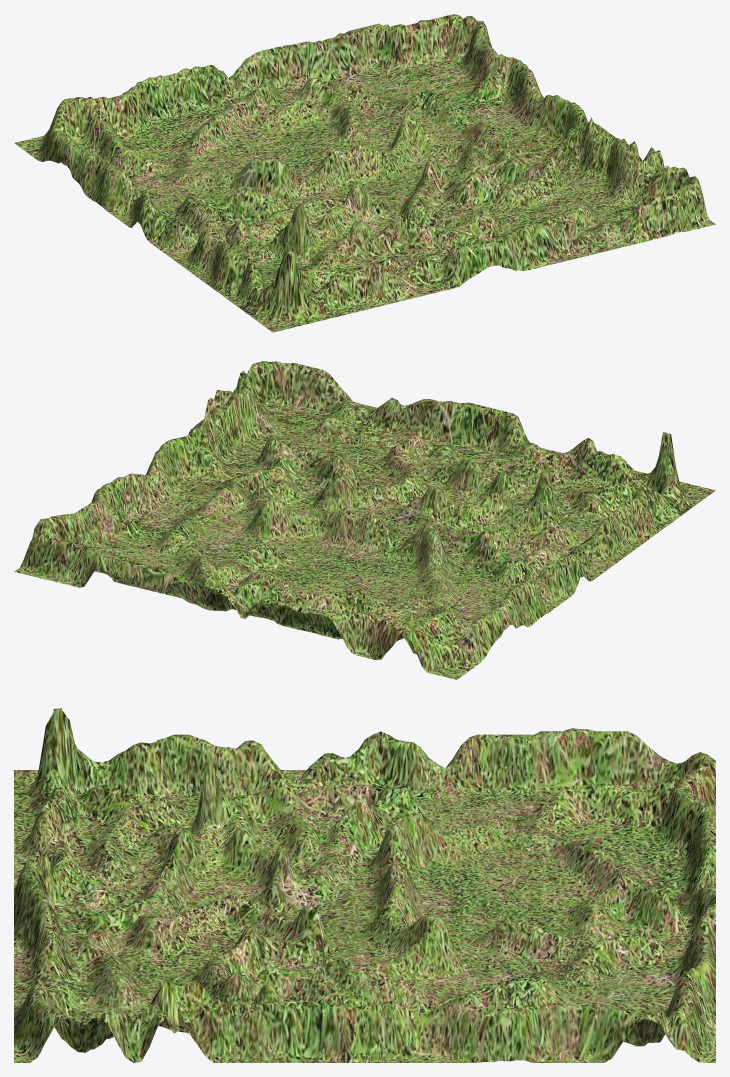
Rendered from terrain.DAE.
3 renders of one model, top to bottom at view 1: azimuth 30°, elevation 25°; view 2: azimuth 150°, elevation 25°; view 3: azimuth 270°, elevation 25°, orthographic. The views are drawn at different scales.
Visible parts, largest first — view 1: Plane001; view 2: Plane001; view 3: Plane001.
Part boxes in pixels (bbox=[...]): Plane001: bbox=[14, 14, 715, 332]; Plane001: bbox=[14, 361, 715, 679]; Plane001: bbox=[14, 708, 715, 1062].
Size of the model in its own units: 155 by 157 by 21.06.
Materials: 1 (1 with a texture image).
